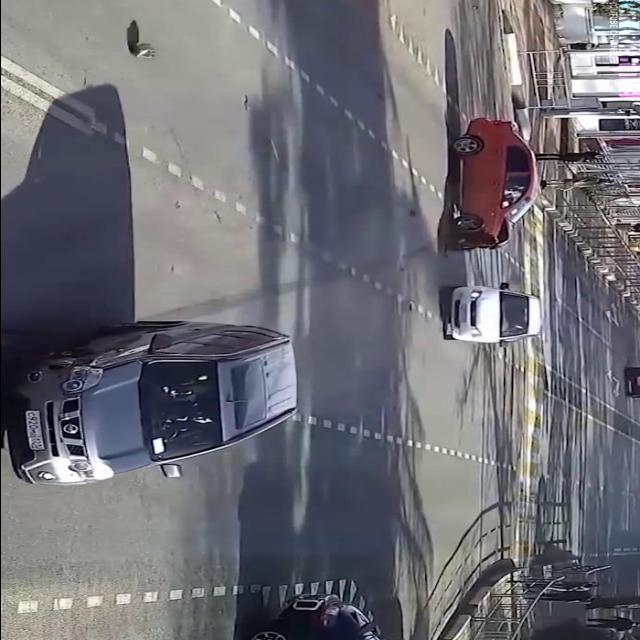accident: (0, 254, 326, 507), (430, 109, 550, 265)
